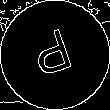P_S: (29, 25, 81, 85)
